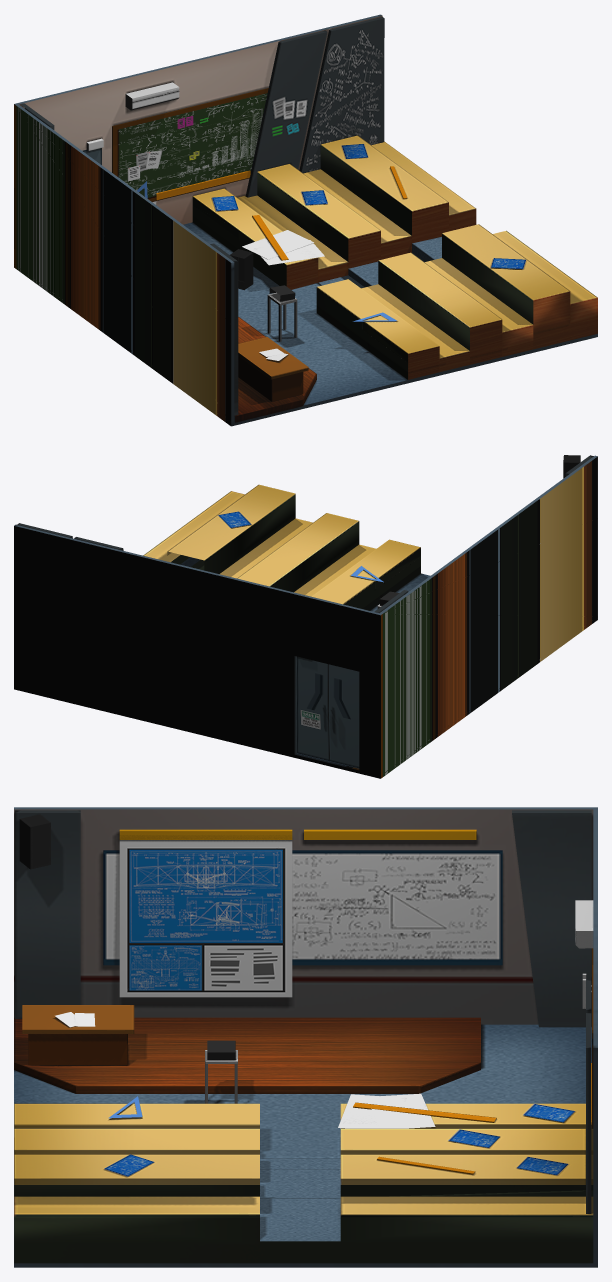
File: Tx_Interior_Education_Professional_20170703.fbx
3 renders of one model, top to bottom at view 1: azimuth 30°, elevation 25°; view 2: azimuth 150°, elevation 25°; view 3: azimuth 270°, elevation 25°, orthographic. The views are drawn at different scales.
Parts seen in each view (by area): view 1: bake; view 2: bake; view 3: bake.
Boxes of the visible parts, left/top/right/bottom form: bake: left=14, top=14, right=597, bottom=426; bake: left=14, top=455, right=597, bottom=778; bake: left=14, top=807, right=597, bottom=1267.
Size of the model in its own units: 52.33 by 22.3 by 53.69.
1 material, 1 textured.
